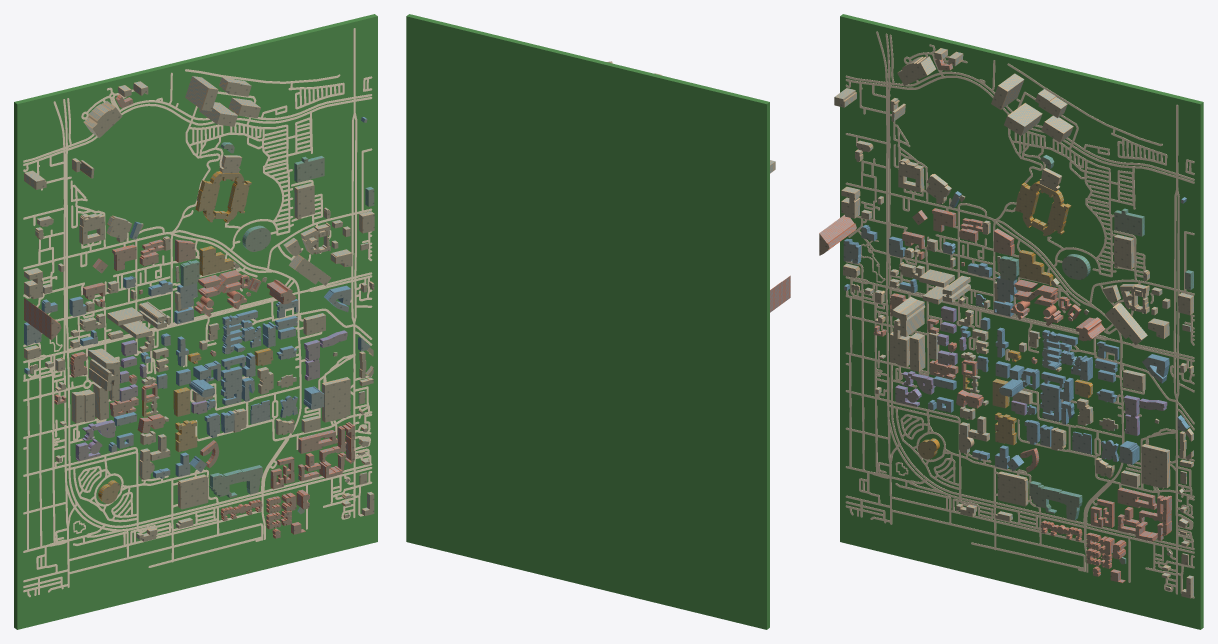
The model's file is asu-tempe-campus-windows.glb.
3 renders of one model, left to right at view 1: azimuth 30°, elevation 25°; view 2: azimuth 150°, elevation 25°; view 3: azimuth 330°, elevation 25°, orthographic.
Parts seen in each view (by area): view 1: plain-0, plain-7, roof-6, reflective-windows, wall-6, roof-1, roof-5, wall-5, wall-1, roof-4, roof-2, roof-3 (+3 smaller); view 2: plain-0; view 3: plain-0, plain-7, roof-6, reflective-windows, wall-6, roof-1, roof-5, wall-5, wall-1, roof-4, roof-2, roof-3 (+3 smaller).
Part boxes in pixels (x1,y1,x2,y2): plain-0: (14,14,377,629); plain-7: (23,28,372,597); roof-6: (27,82,374,541); reflective-windows: (24,76,372,540); wall-6: (24,76,374,541); roof-1: (27,119,370,478); roof-5: (51,97,354,538); wall-5: (24,94,354,538); wall-1: (24,117,369,478); roof-4: (101,173,273,503); roof-2: (183,144,374,513); roof-3: (78,332,347,461); plain-0: (406,14,769,629); plain-0: (840,14,1203,629); plain-7: (845,31,1194,598); roof-6: (834,52,1191,598); reflective-windows: (820,49,1193,597); wall-6: (835,48,1193,598); roof-1: (843,193,1186,471); roof-5: (819,59,1166,582); wall-5: (819,59,1171,582); wall-1: (844,191,1189,470); roof-4: (918,183,1090,459); roof-2: (1000,157,1190,564); roof-3: (895,308,1164,435).
Size of the model in its own units: 159 by 222 by 23.4.
15 materials, 6 textured.
